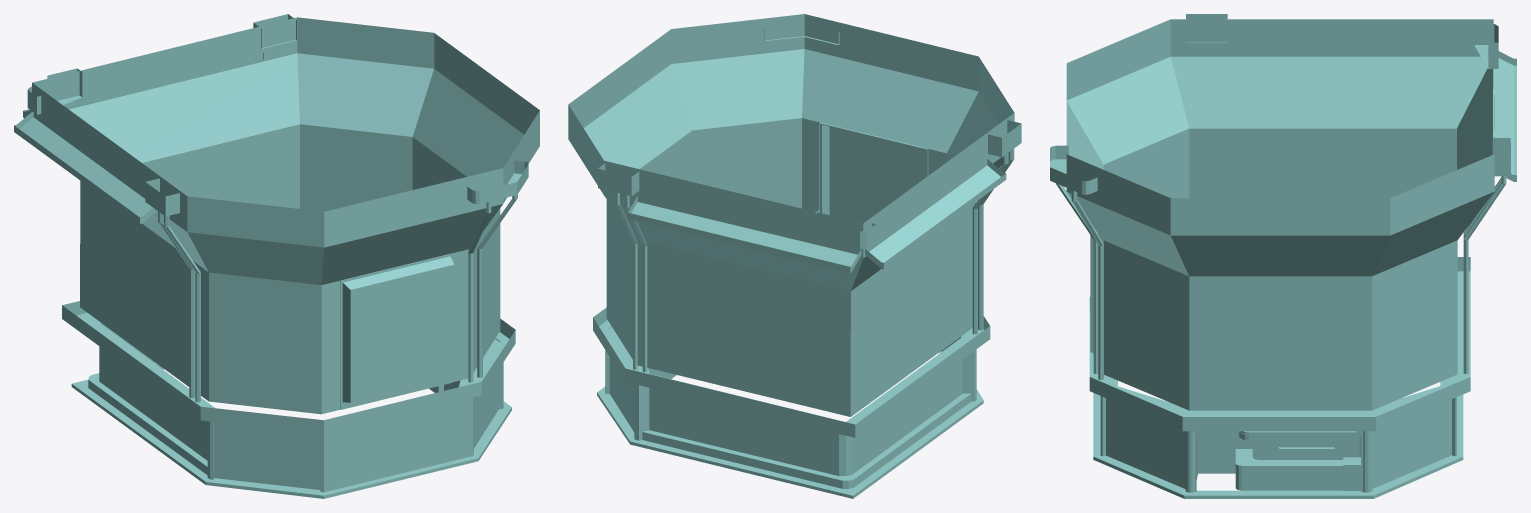
File: TS2_Collider_ZhuZi.FBX
3 views of the same model, side by side, from view 1: azimuth 30°, elevation 25°; view 2: azimuth 150°, elevation 25°; view 3: azimuth 270°, elevation 25° (orthographic). The views are drawn at different scales.
Visible parts, largest first — view 1: Collider_ZhuZi; view 2: Collider_ZhuZi; view 3: Collider_ZhuZi.
Part boxes in pixels (x1,y1,x2,y2): Collider_ZhuZi: (14,14,539,498); Collider_ZhuZi: (568,14,1021,498); Collider_ZhuZi: (1050,14,1516,498).
Bounding box in the file's own units: 14.52 × 11.26 × 15.18.
